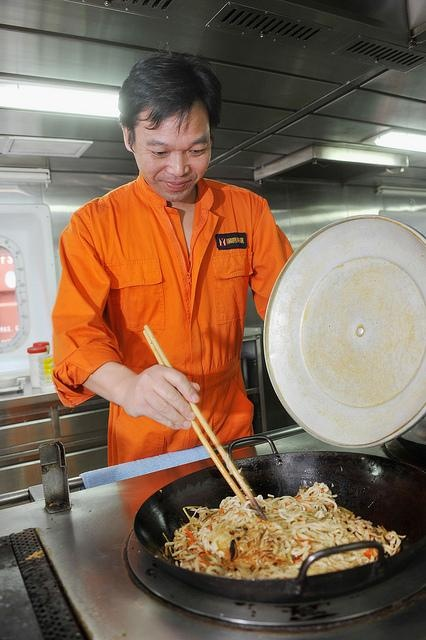person: (45, 52, 321, 460)
